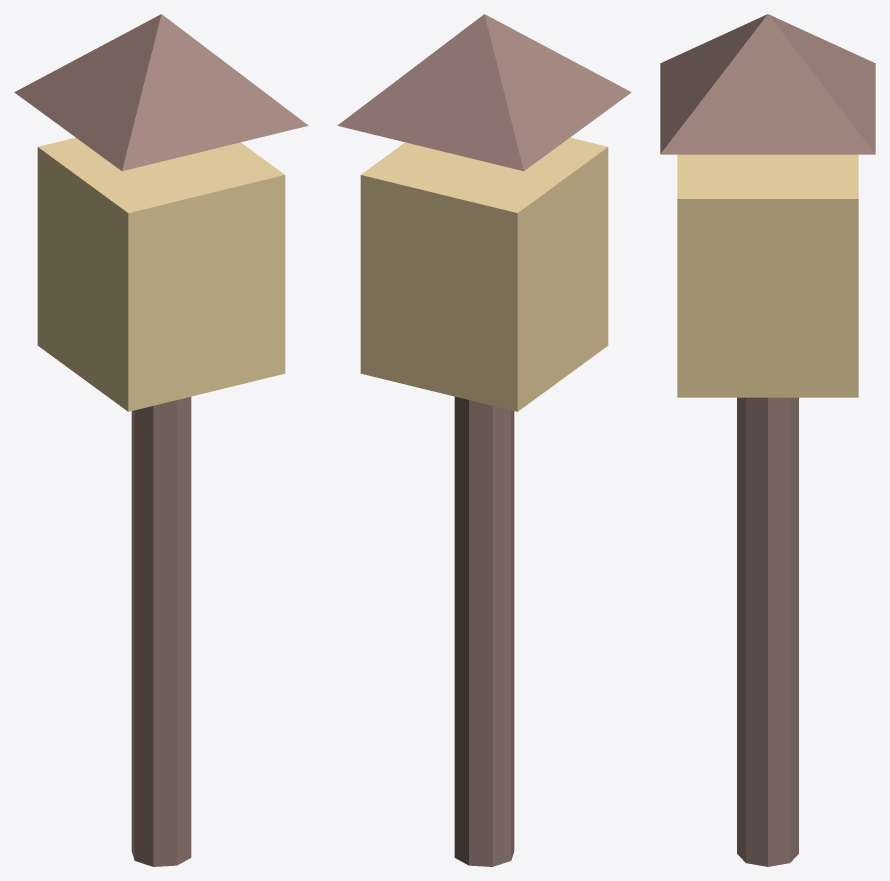
Rendered from lantern.glb.
3 renders of one model, left to right at view 1: azimuth 30°, elevation 25°; view 2: azimuth 150°, elevation 25°; view 3: azimuth 270°, elevation 25°, orthographic.
Visible parts, largest first — view 1: lantern_1, lantern_0, lantern_3; view 2: lantern_1, lantern_0, lantern_3; view 3: lantern_1, lantern_0, lantern_3.
Boxes of the visible parts, box(x1,y1,x2,y2) form: lantern_1: box(37, 137, 285, 411); lantern_0: box(131, 396, 191, 866); lantern_3: box(14, 14, 308, 171); lantern_1: box(360, 137, 608, 411); lantern_0: box(454, 396, 514, 866); lantern_3: box(337, 14, 631, 171); lantern_1: box(677, 154, 858, 397); lantern_0: box(737, 397, 798, 866); lantern_3: box(660, 14, 875, 154).
Bounding box in the file's own units: 0.4525 × 1.95 × 0.4525.
